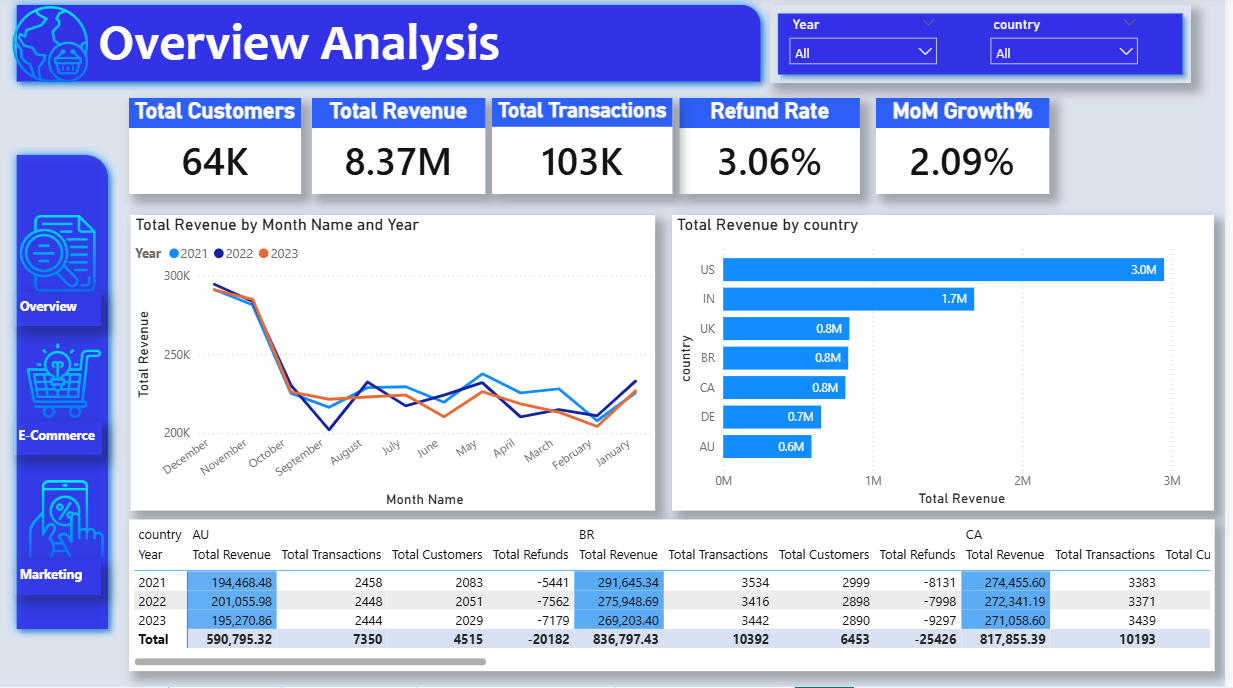

The dashboard page shown, as its layout file describes it:
{"tool":"powerbi","page":{"name":"overview ","canvas":[1280,720],"ordinal":1},"visuals":[{"type":"shape","box":[10.9,156.3,114.1,512.7],"z":0},{"type":"shape","box":[10.9,0,794,98.5],"z":1000},{"type":"cardVisual","title":"Total Customers","fields":{"Data":["transactions.Total Customers"]},"box":[138,105.8,179.5,100.2],"z":2000},{"type":"cardVisual","title":"Total Revenue","fields":{"Data":["transactions.Total Revenue"]},"box":[327.5,105.9,180.4,100],"z":3000},{"type":"cardVisual","title":"Refund Rate","fields":{"Data":["transactions.Refund Rate %"]},"box":[711.8,105.9,188.2,100],"z":4000},{"type":"cardVisual","title":"MoM Growth%","fields":{"Data":["transactions.MoM Growth %"]},"box":[915.7,105.9,180.4,100],"z":5000},{"type":"cardVisual","title":"Total Transactions","fields":{"Data":["transactions.Total Transactions"]},"box":[515.7,105.9,188.2,100],"z":6000},{"type":"lineChart","fields":{"Y":["transactions.Total Revenue"],"Series":["Date Table.Year"],"Category":["Date Table.Month Name"]},"box":[138.7,227.4,546.8,308.1],"z":7000},{"type":"barChart","fields":{"Category":["customers.country"],"Y":["transactions.Total Revenue"]},"box":[703.9,227.5,564.7,307.8],"z":8000},{"type":"pivotTable","fields":{"Rows":["Date Table.Year"],"Columns":["customers.country"],"Values":["transactions.Total Revenue","transactions.Total Transactions","transactions.Total Customers","transactions.Total Refunds"]},"box":[137.5,545.5,1131.6,157.9],"z":9000},{"type":"image","box":[12.5,228.2,101.6,79.7],"z":10000},{"type":"image","box":[20.3,359.5,98.5,82.8],"z":11000},{"type":"image","box":[17.2,501.7,107.8,86],"z":12000},{"type":"textbox","box":[18.8,307.9,89.1,35.9],"z":13000},{"type":"textbox","box":[17.2,442.3,92.2,35.9],"z":14000},{"type":"textbox","box":[18.8,587.7,89.1,35.9],"z":15000},{"type":"textbox","box":[64.1,9.4,501.7,81.3],"z":16000},{"type":"shape","box":[804.9,9.4,439.2,81.3],"z":17000},{"type":"slicer","fields":{"Values":["Date Table.Year"]},"box":[815.9,15.6,173.5,68.8],"z":18000},{"type":"slicer","fields":{"Values":["customers.country"]},"box":[1025.3,15.6,173.5,68.8],"z":19000},{"type":"image","box":[1.6,7.8,107.8,84.4],"z":20000}]}

Visuals, with their boxes in screenshot pixels (x1, y1, x2, y2), scaled from the page's 1280x720 canvas onto the 1233x688 screenshot:
shape: <region>10, 149, 120, 639</region>
shape: <region>10, 0, 775, 94</region>
"Total Customers" cardVisual: <region>133, 101, 306, 197</region>
"Total Revenue" cardVisual: <region>315, 101, 489, 197</region>
"Refund Rate" cardVisual: <region>686, 101, 867, 197</region>
"MoM Growth%" cardVisual: <region>882, 101, 1056, 197</region>
"Total Transactions" cardVisual: <region>497, 101, 678, 197</region>
lineChart - transactions.Total Revenue x Date Table.Year: <region>134, 217, 660, 512</region>
barChart - customers.country x transactions.Total Revenue: <region>678, 217, 1222, 512</region>
pivotTable - Date Table.Year x customers.country: <region>132, 521, 1223, 672</region>
image: <region>12, 218, 110, 294</region>
image: <region>20, 344, 114, 423</region>
image: <region>17, 479, 120, 562</region>
textbox: <region>18, 294, 104, 329</region>
textbox: <region>17, 423, 105, 457</region>
textbox: <region>18, 562, 104, 596</region>
textbox: <region>62, 9, 545, 87</region>
shape: <region>775, 9, 1198, 87</region>
slicer - Date Table.Year: <region>786, 15, 953, 81</region>
slicer - customers.country: <region>988, 15, 1155, 81</region>
image: <region>2, 7, 105, 88</region>
